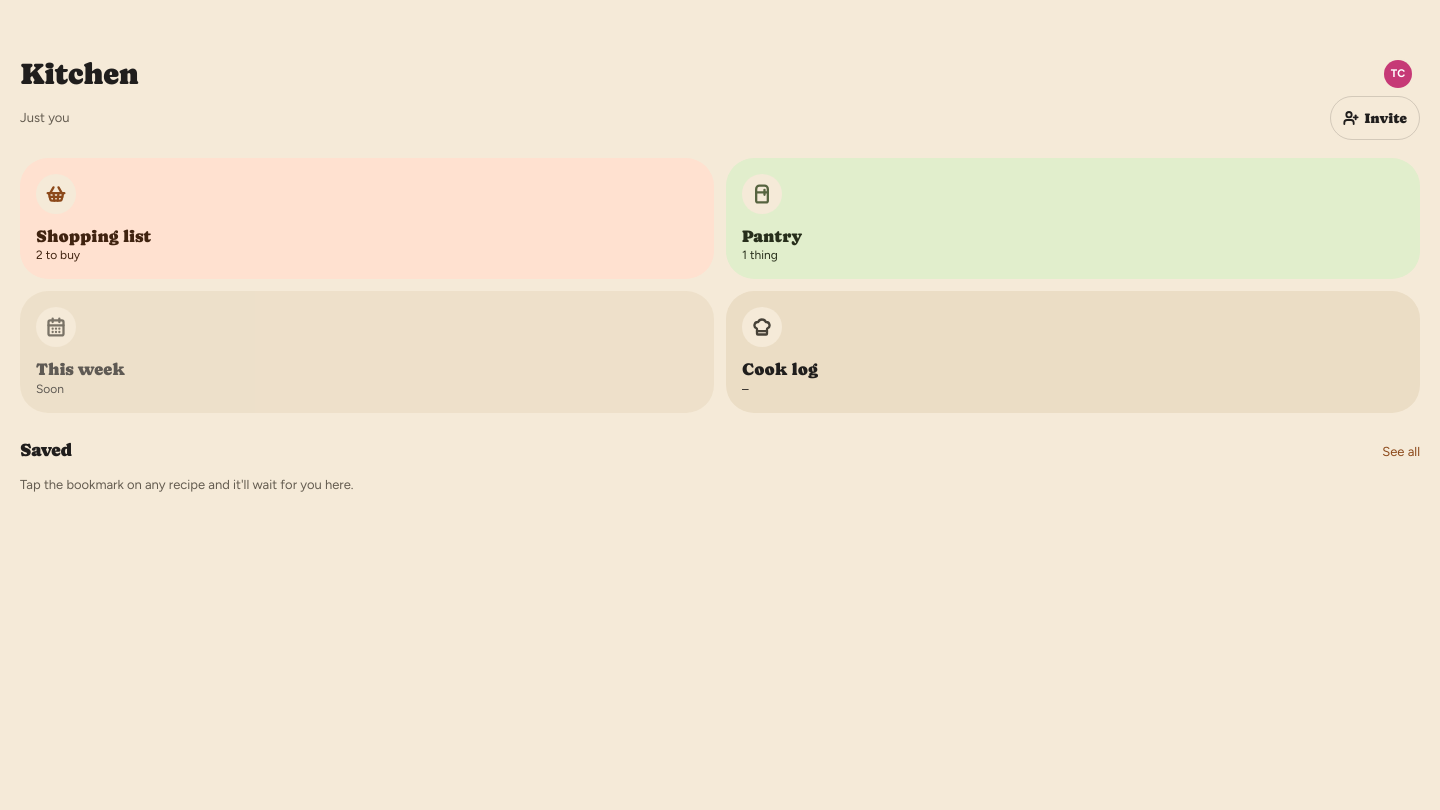
Test: KitchenPage household (RL-239) › Invite makes a link and shares it, copying where there is no Web Share
Click the button "Invite" at (1375, 118), box [1330,96,1420,140]
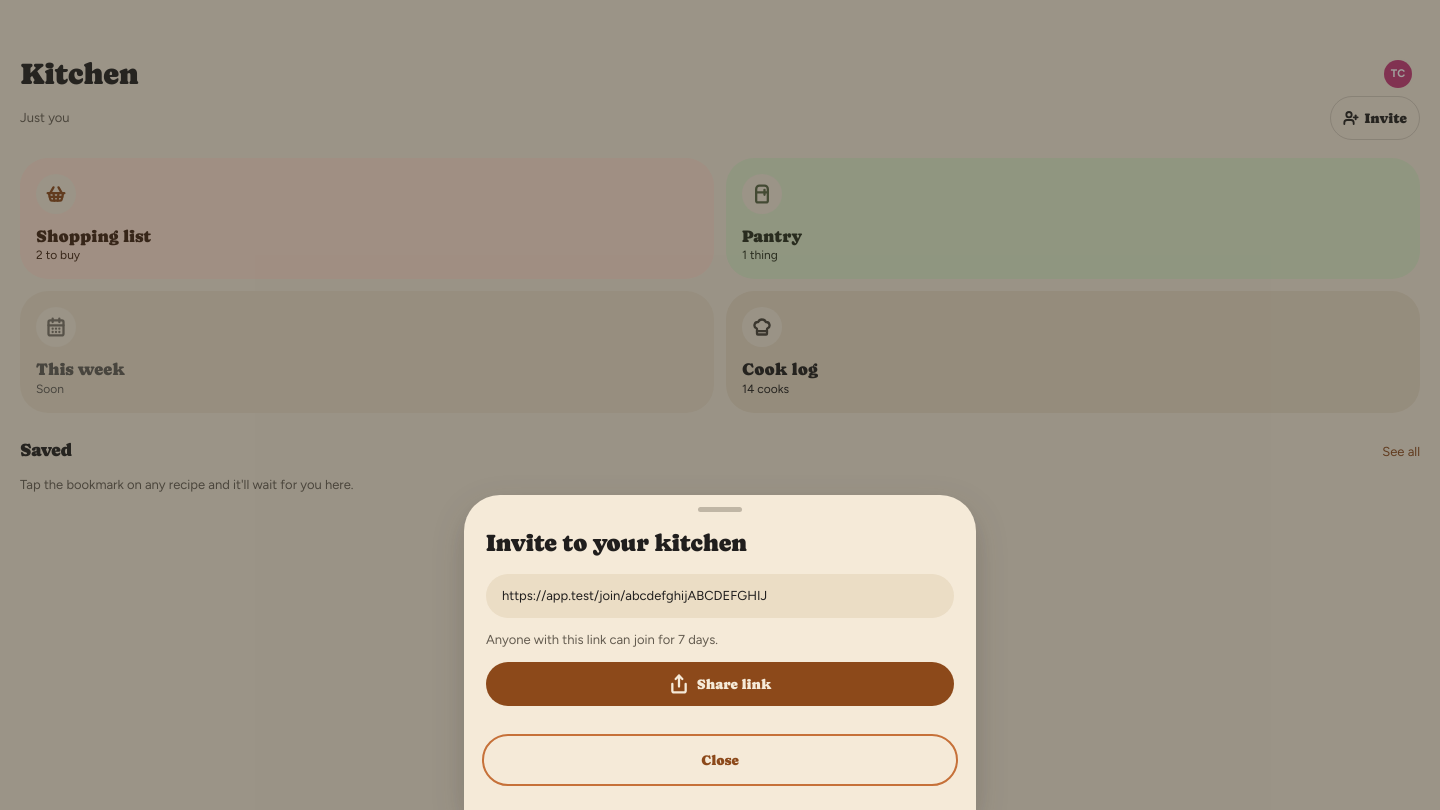
expect the text "Anyone with this link can join for 7 days." is shown: met, box [486,632,718,647]
Click the button "Share link" at (720, 684), box [486,662,954,706]
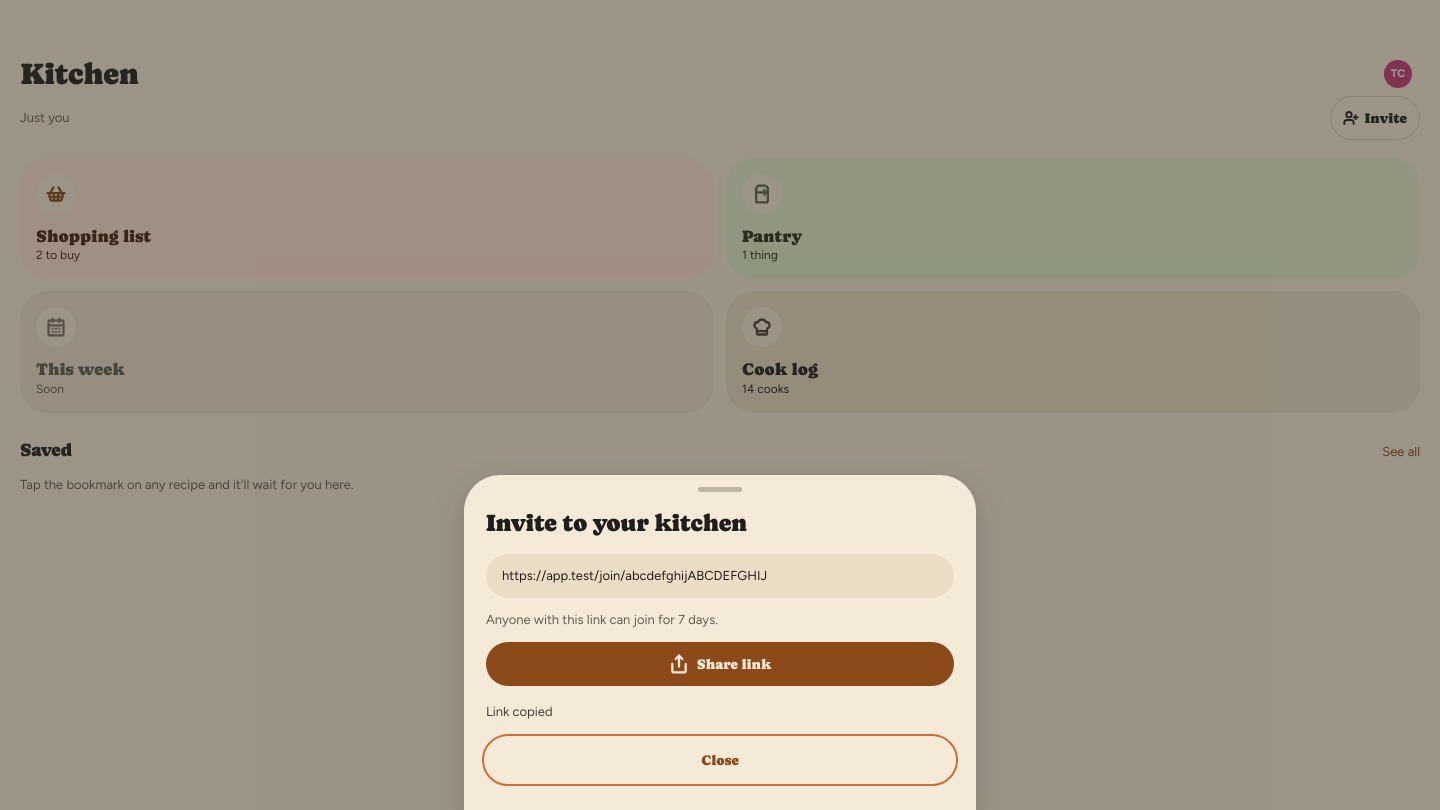
expect the text "Link copied" is shown: met, box [486,704,552,719]
Click the button "Close" at (720, 760), box [486,738,954,782]
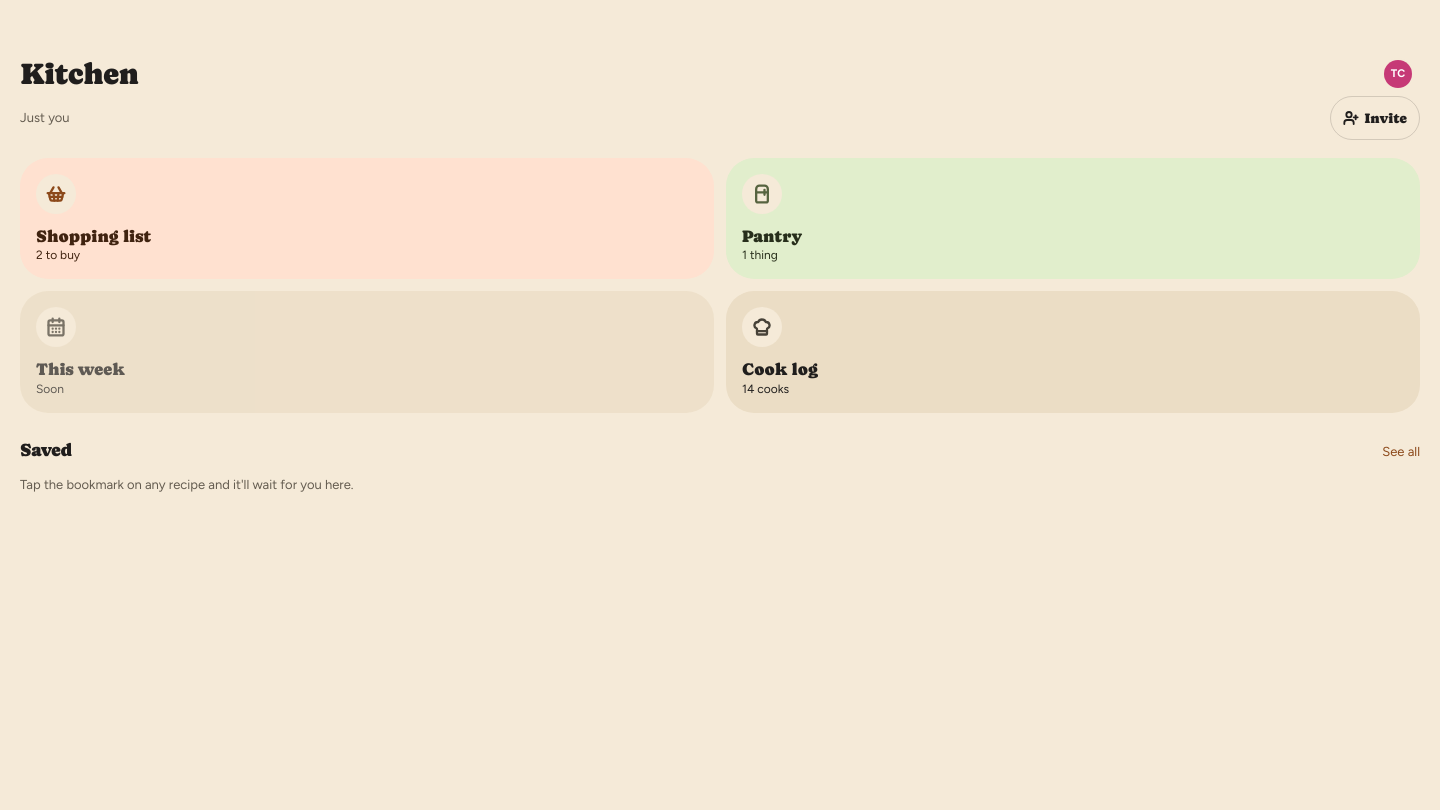
Click the button "Invite" at (1375, 118), box [1330,96,1420,140]
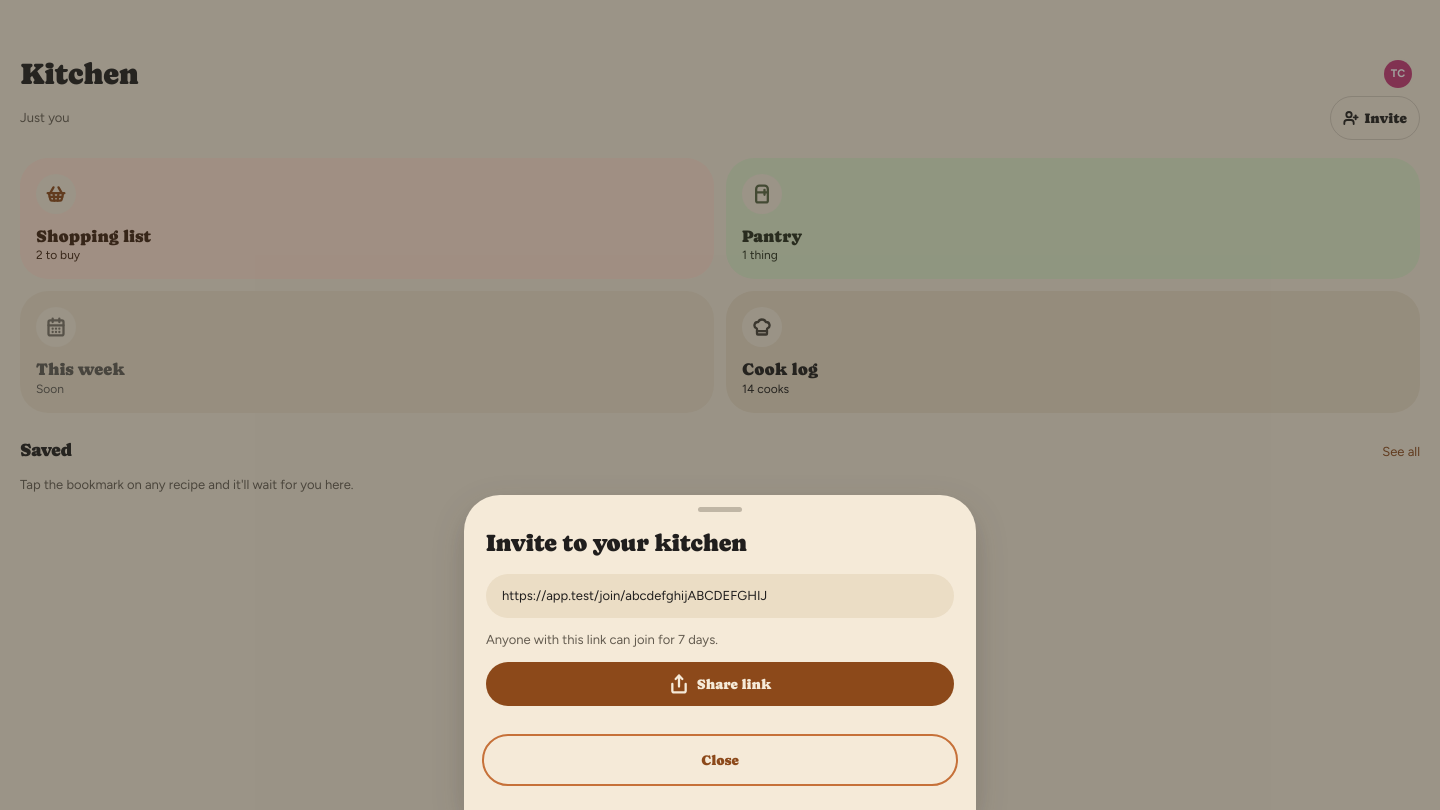
expect the text "Link copied" is not shown: met
expect the text "Anyone with this link can join for 7 days." is shown: met, box [486,632,718,647]
